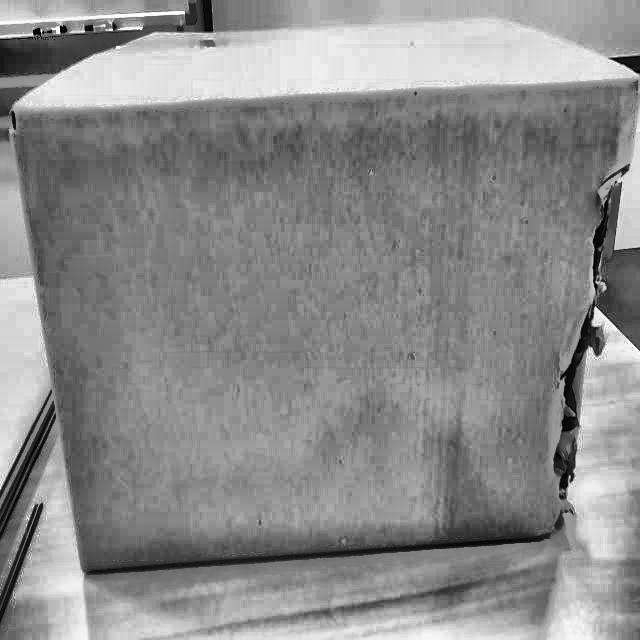box: (2, 4, 639, 590)
hole: (542, 168, 614, 480)
